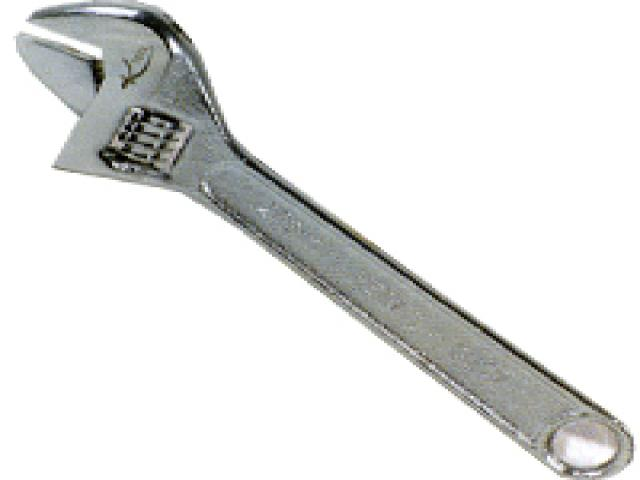Adjustable spanner: (18, 1, 632, 480)
